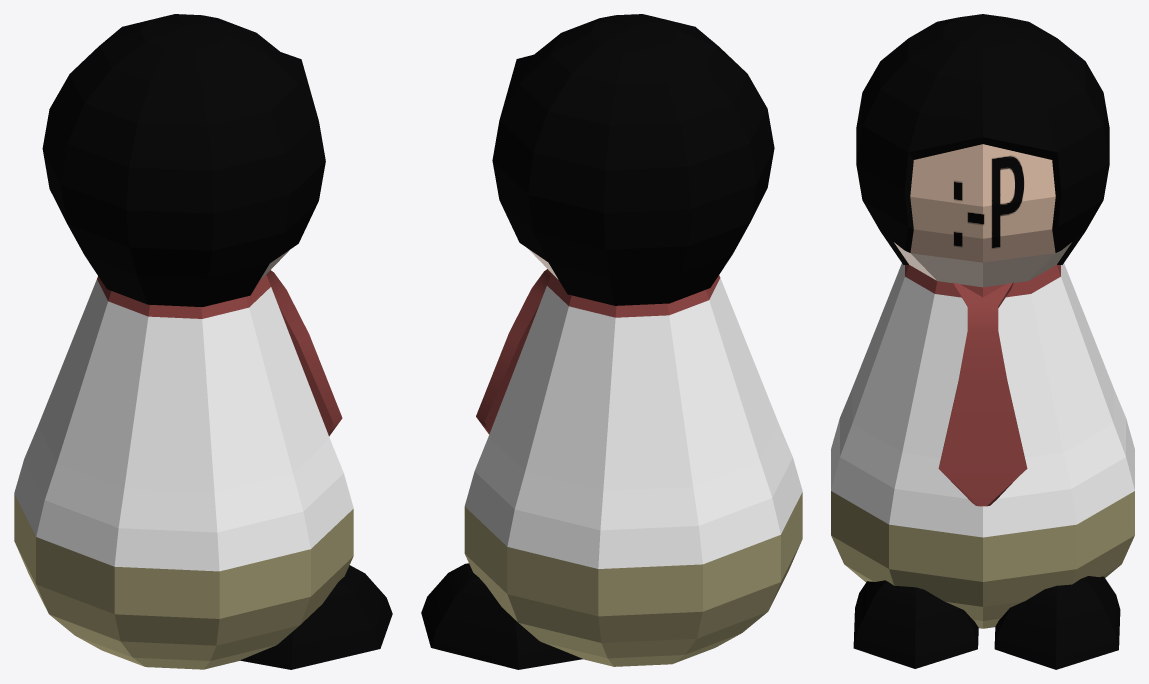
Rendered from ProtagonistaModelo.fbx.
The picture shows the model from 3 angles, left to right: view 1: azimuth 30°, elevation 25°; view 2: azimuth 150°, elevation 25°; view 3: azimuth 270°, elevation 25°; orthographic projection. The views are drawn at different scales.
Parts seen in each view (by area): view 1: MainCharacter1; view 2: MainCharacter1; view 3: MainCharacter1.
Boxes of the visible parts, x1,y1,x2,y2 form: MainCharacter1: [14, 14, 392, 669]; MainCharacter1: [421, 14, 802, 669]; MainCharacter1: [831, 14, 1134, 669].
Bounding box in the file's own units: 0.9888 × 1.77 × 0.863.
7 materials, 1 textured.
